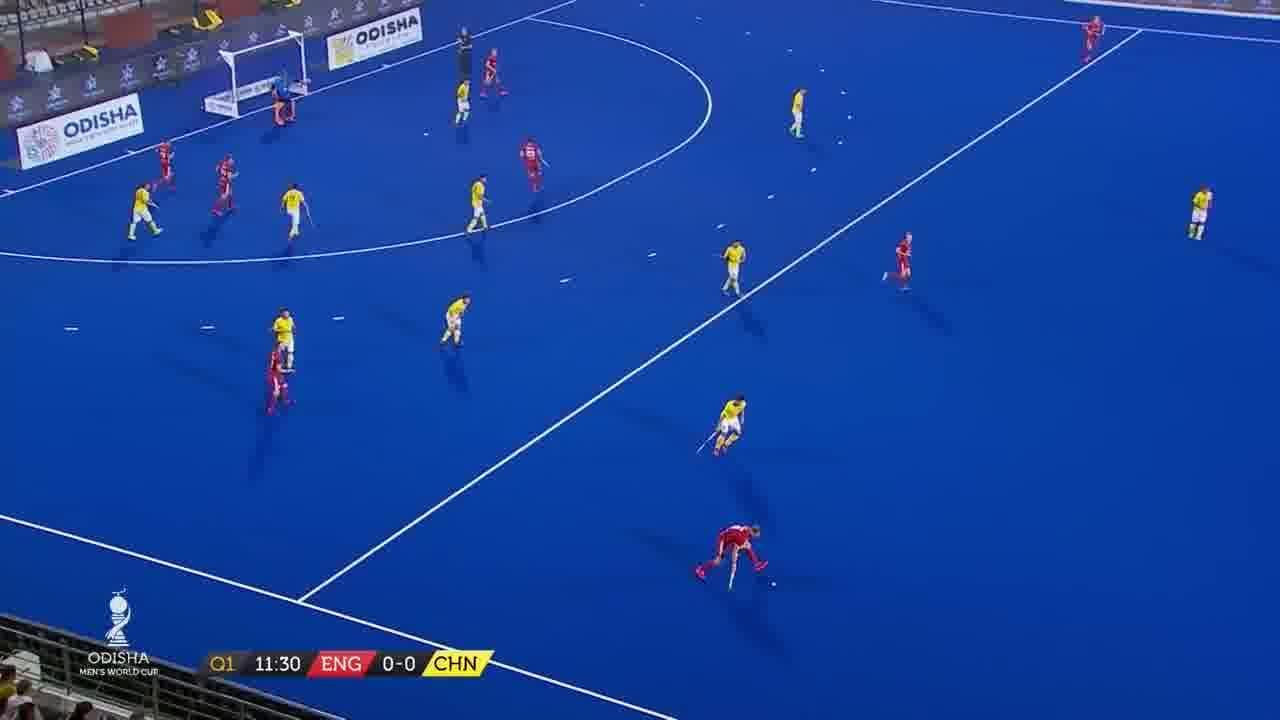ball: (765, 576, 785, 592)
